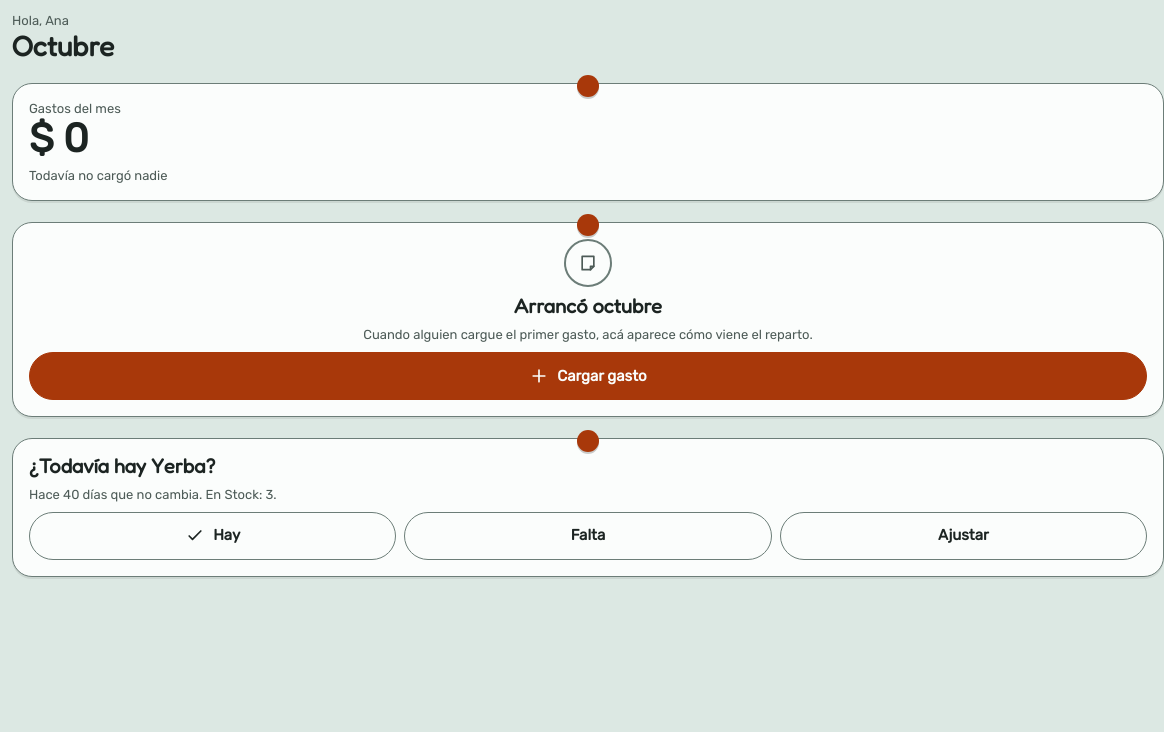
Hay confirma, y la tarjeta pasa al siguiente al instante
Expected: the heading "¿Todavía hay Yerba?" is shown, [29,454,215,478]
Click the button "Hay" at (213, 536), box [29,512,396,560]
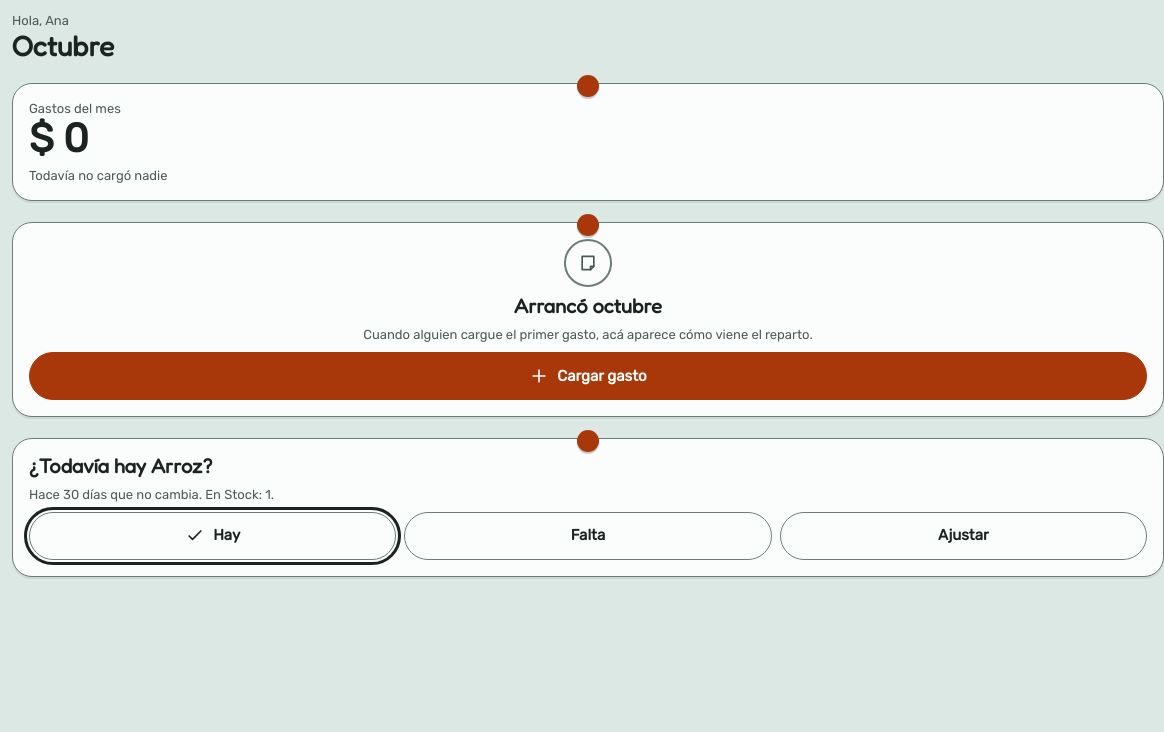
Now the heading "¿Todavía hay Arroz?" is shown, box [29,454,212,478]
